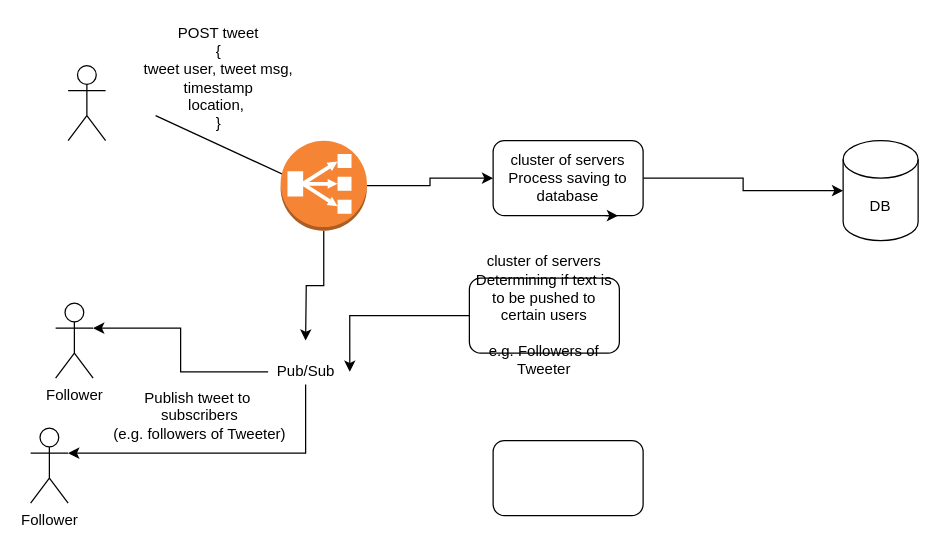
Image size: 940x550. Some labels were removed from this diagram. Here are the shapes that lost their labels. From the top down, the centre of each, then its label:
At point (86, 102): "Tweeter".
At point (567, 477): "Do ML on DB to find relevant tweets to recommend users".
